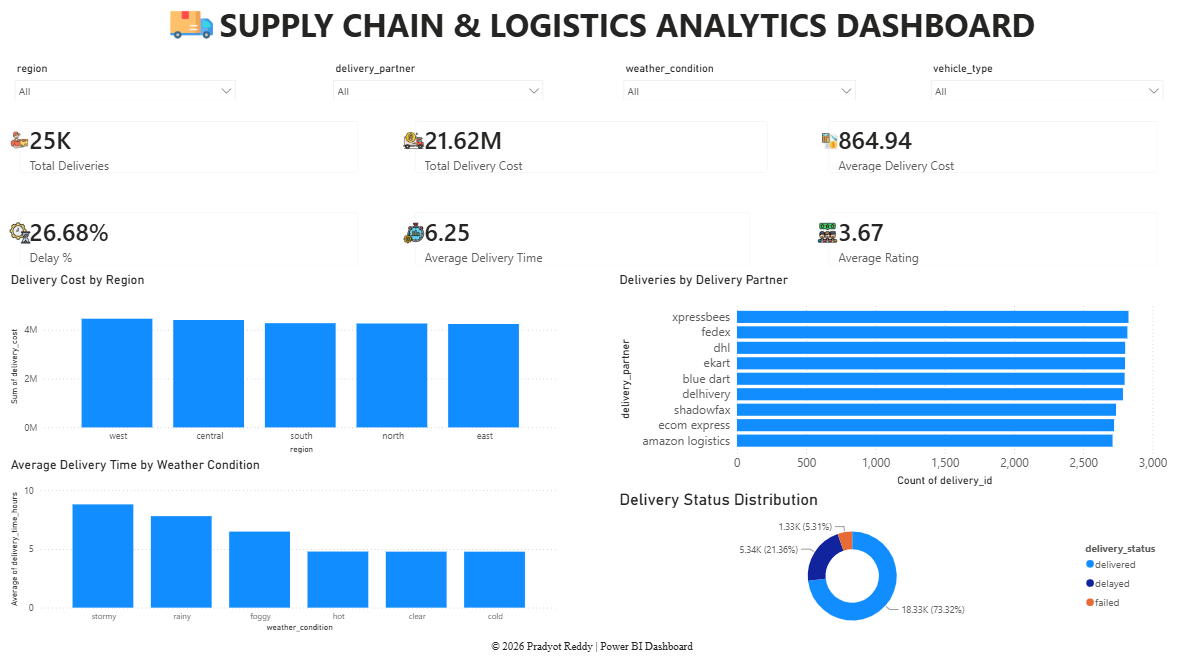

This screenshot's page, from the dashboard's own definition file:
{"tool":"powerbi","page":{"name":"Executive Dashboard","canvas":[1600,900],"ordinal":0},"visuals":[{"type":"cardVisual","fields":{"Data":["Deliveries.Total Deliveries"]},"box":[20,156.7,485,103.3],"z":0},{"type":"cardVisual","fields":{"Data":["Deliveries.Total Delivery Cost"]},"box":[546.7,156.7,505,103.3],"z":1000},{"type":"cardVisual","fields":{"Data":["Deliveries.Average Delivery Cost"]},"box":[1098.3,156.7,473.3,103.3],"z":2000},{"type":"cardVisual","fields":{"Data":["Deliveries.Average Delivery Time"]},"box":[546.7,278.3,481.7,106.7],"z":3000},{"type":"cardVisual","title":"Average Customer Rating","fields":{"Data":["Deliveries.Average Rating"]},"box":[1098.3,278.3,473.3,106.7],"z":4000},{"type":"cardVisual","fields":{"Data":["Deliveries.Delay %"]},"box":[20,278.3,485,106.7],"z":5000},{"type":"donutChart","title":"Delivery Status Distribution","fields":{"Category":["Deliveries.delivery_status"],"Y":["CountNonNull(Deliveries.delivery_id)"]},"box":[831.7,665,740,195],"z":6000},{"type":"clusteredBarChart","title":"Deliveries by Delivery Partner","fields":{"Category":["Deliveries.delivery_partner"],"Y":["CountNonNull(Deliveries.delivery_id)"]},"box":[831.7,375,740,290],"z":7000},{"type":"clusteredColumnChart","title":"Delivery Cost by Region","fields":{"Category":["Deliveries.region"],"Y":["Sum(Deliveries.delivery_cost)"]},"box":[20,375,740,246.7],"z":8000},{"type":"clusteredColumnChart","title":"Average Delivery Time by Weather Condition","fields":{"Category":["Deliveries.weather_condition"],"Y":["Avg(Deliveries.delivery_time_hours)"]},"box":[20,621.7,740,238.3],"z":9000},{"type":"slicer","fields":{"Values":["Deliveries.region"]},"box":[20,90,330,55],"z":10000},{"type":"slicer","fields":{"Values":["Deliveries.delivery_partner"]},"box":[430,90,330,55],"z":11000},{"type":"slicer","fields":{"Values":["Deliveries.vehicle_type"]},"box":[1241.7,90,330,55],"z":12000},{"type":"textbox","box":[0,10,1600,70],"z":13000},{"type":"slicer","fields":{"Values":["Deliveries.weather_condition"]},"box":[831.7,90,330,55],"z":14000},{"type":"image","box":[223.3,16.7,85,56.7],"z":16000},{"type":"image","box":[25,175,23.3,46.7],"z":17000},{"type":"image","box":[548.3,173.3,28.3,51.7],"z":18000},{"type":"image","box":[1106.7,175,21.7,50],"z":19000},{"type":"image","box":[23.3,305,28.3,35],"z":20000},{"type":"image","box":[548.3,298.3,28.3,48.3],"z":21000},{"type":"image","box":[1100,300,28.3,45],"z":22000},{"type":"textbox","box":[0,860,1600,40],"z":22001}]}

Visuals, with their boxes in screenshot pixels (x1, y1, x2, y2), scaled from the page's 1600x900 canvas onto the 1185x661 screenshot:
cardVisual - Deliveries.Total Deliveries: <box>15,115,374,191</box>
cardVisual - Deliveries.Total Delivery Cost: <box>405,115,779,191</box>
cardVisual - Deliveries.Average Delivery Cost: <box>813,115,1164,191</box>
cardVisual - Deliveries.Average Delivery Time: <box>405,204,762,283</box>
"Average Customer Rating" cardVisual: <box>813,204,1164,283</box>
cardVisual - Deliveries.Delay %: <box>15,204,374,283</box>
"Delivery Status Distribution" donutChart: <box>616,488,1164,632</box>
"Deliveries by Delivery Partner" clusteredBarChart: <box>616,275,1164,488</box>
"Delivery Cost by Region" clusteredColumnChart: <box>15,275,563,457</box>
"Average Delivery Time by Weather Condition" clusteredColumnChart: <box>15,457,563,632</box>
slicer - Deliveries.region: <box>15,66,259,106</box>
slicer - Deliveries.delivery_partner: <box>318,66,563,106</box>
slicer - Deliveries.vehicle_type: <box>920,66,1164,106</box>
textbox: <box>0,7,1184,59</box>
slicer - Deliveries.weather_condition: <box>616,66,860,106</box>
image: <box>165,12,228,54</box>
image: <box>19,129,36,163</box>
image: <box>406,127,427,165</box>
image: <box>820,129,836,165</box>
image: <box>17,224,38,250</box>
image: <box>406,219,427,255</box>
image: <box>815,220,836,253</box>
textbox: <box>0,632,1184,660</box>
